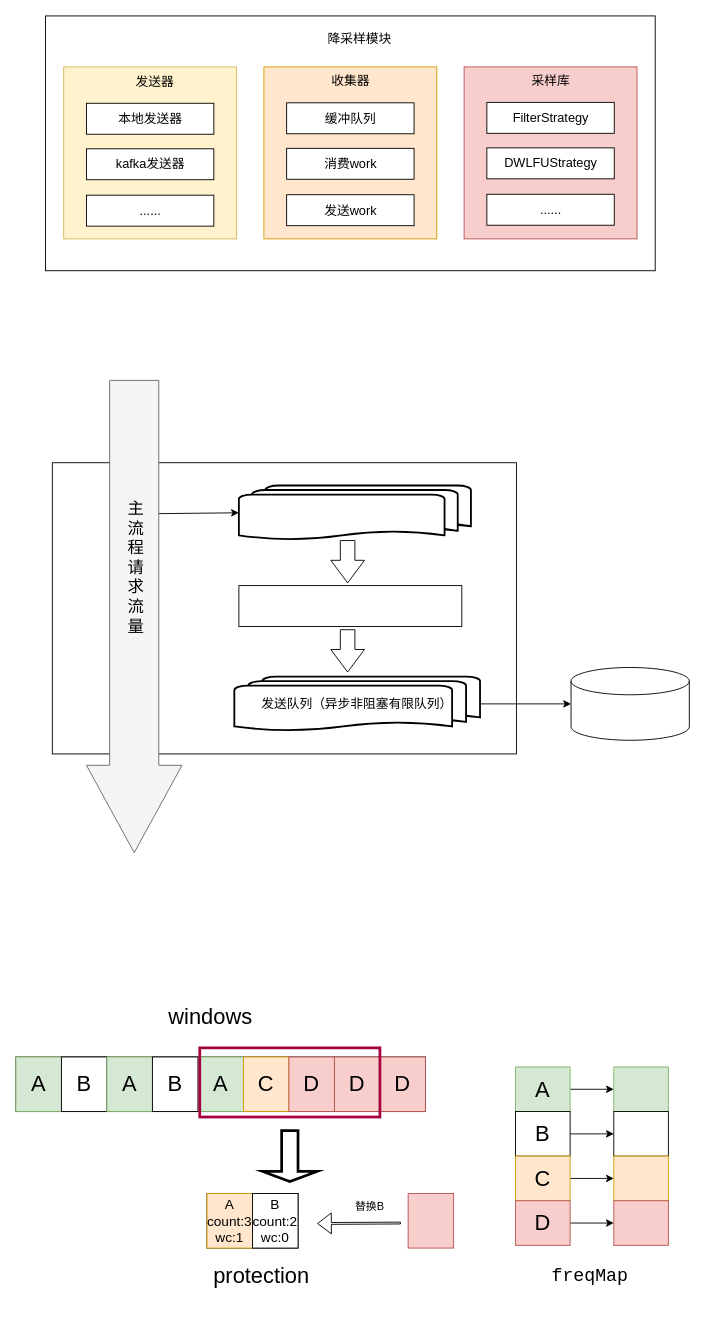
Image size: 705x1321. Some labels were removed from this diagram. Each missing label, with the centre of its shape:
"count:1 wc:1" goes at point (640, 1178).
"count:2 wc:0" goes at point (640, 1133).
"count:2 wc:2" goes at point (640, 1222).
"count:3 wc:1" goes at point (640, 1089).
"D count:2 wc:2" goes at point (430, 1220).
"外部存储" goes at point (629, 703).
"请求队列（异步非阻塞有限队列）" goes at point (354, 512).
"高性能采集算法" goes at point (350, 606).
